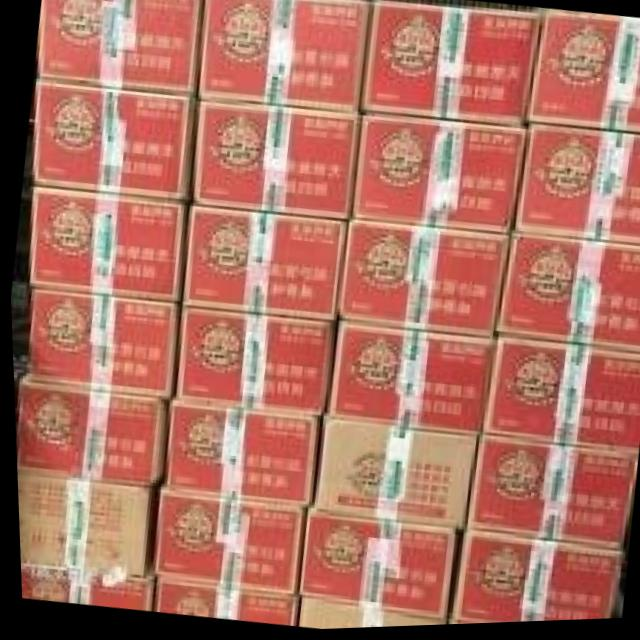box: (362, 5, 541, 131), (350, 116, 523, 237), (338, 221, 508, 339), (463, 438, 632, 555), (191, 101, 357, 219), (199, 0, 371, 113), (326, 323, 492, 437), (310, 418, 477, 531), (33, 83, 193, 199), (481, 341, 640, 456), (182, 208, 343, 321), (27, 187, 184, 301), (493, 236, 640, 354), (172, 309, 331, 416), (296, 511, 451, 620), (161, 401, 317, 507), (25, 290, 176, 397), (14, 379, 166, 484), (448, 534, 617, 627), (152, 490, 300, 596), (513, 128, 640, 251), (40, 0, 201, 92), (14, 471, 150, 579), (528, 13, 640, 137), (152, 580, 290, 625), (17, 567, 149, 609), (294, 601, 441, 631)
